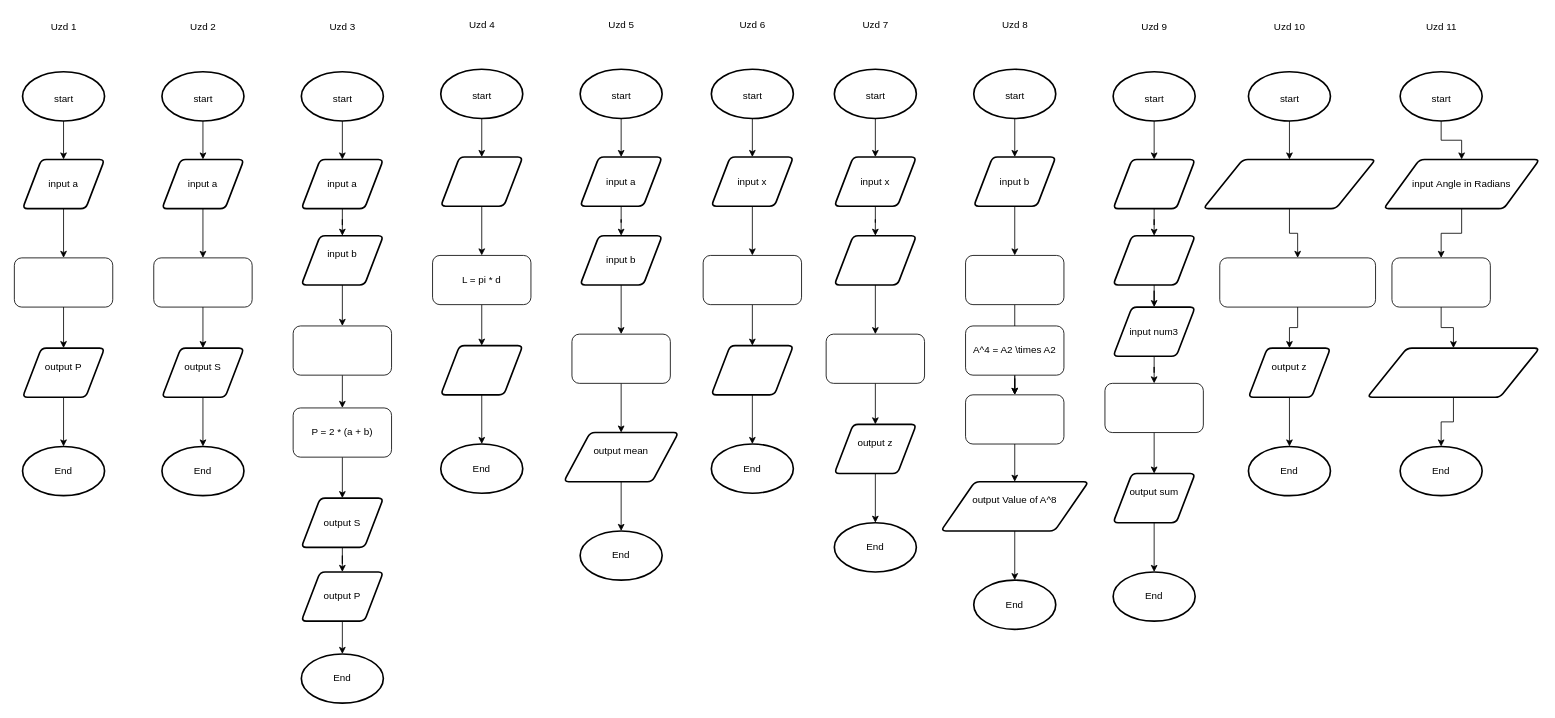
Image size: 1555x718. Some labels were removed from this diagram. Each missing label, with the centre of its shape:
A^2 = A \times A: (1014,280)
A^8 = A4 \times: (1014,419)
celsius = (fahrenheit - 32) * 5.0 / 9.0: (1297,282)
degrees = alpha * (180 / pi): (1440,282)
input d: (481,181)
input num1: (1154,183)
input num2: (1154,260)
input Temperature in Fahrenheit: (1289,183)
input y: (875,260)
mean = (a + b) / 2: (620,358)
Output Angle in Degrees: (1453,372)
output L: (481,369)
output y: (752,369)
p=4a: (63,282)
S = a * b: (342,350)
S = a^2: (202,282)
sum = num1 + num2 + num3: (1153,408)
y = 3x^6 - 6x^2 - 7: (752,280)
z = x^3 + 3xy - (x + y)^2 + y^4: (875,358)
